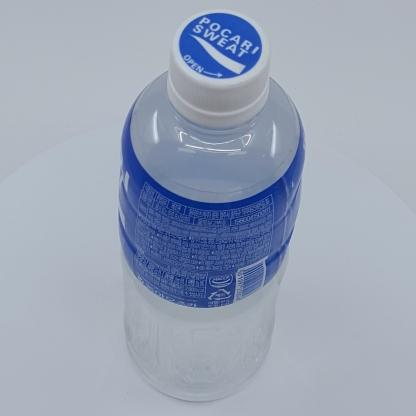--------500ML: (117, 8, 306, 402)
